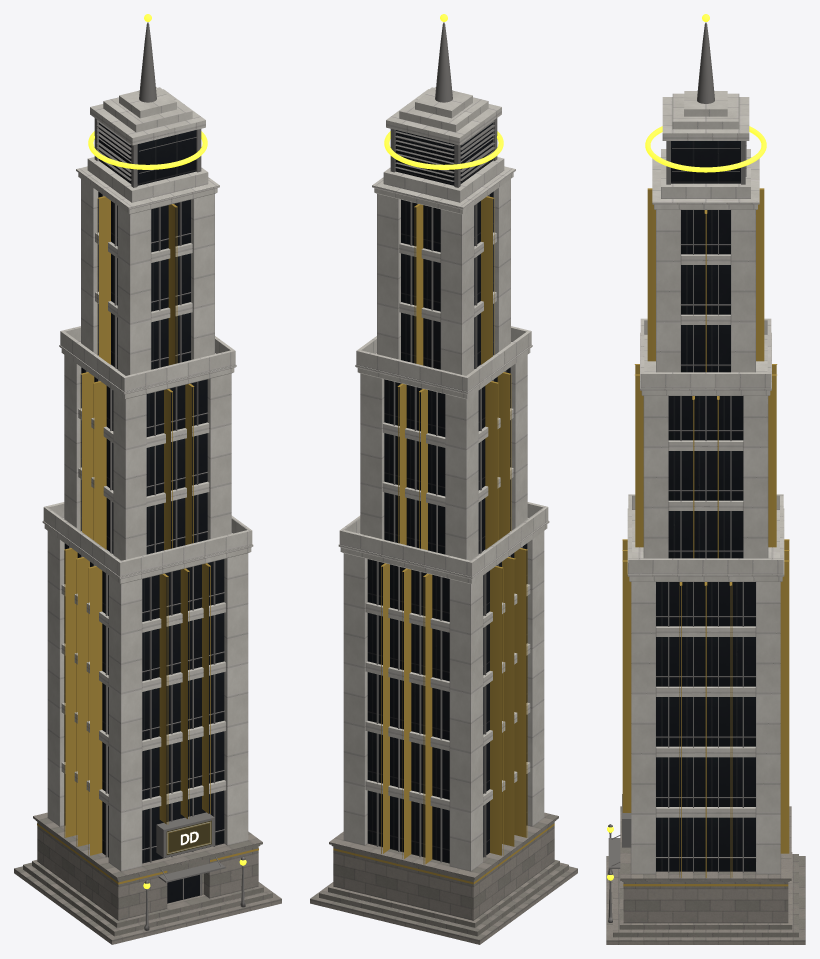
The model's file is s24-donatello-dao.glb.
The picture shows the model from 3 angles, left to right: view 1: azimuth 30°, elevation 25°; view 2: azimuth 150°, elevation 25°; view 3: azimuth 270°, elevation 25°; orthographic projection.
Visible parts, largest first — view 1: Landmark · Donatello DAO (Series 24); view 2: Landmark · Donatello DAO (Series 24); view 3: Landmark · Donatello DAO (Series 24).
Part boxes in pixels (x1,y1,x2,y2): Landmark · Donatello DAO (Series 24): (14,14,281,944); Landmark · Donatello DAO (Series 24): (310,14,577,944); Landmark · Donatello DAO (Series 24): (606,14,805,944).
Size of the model in its own units: 12 by 59 by 12.
Materials: 7 (4 with a texture image).
